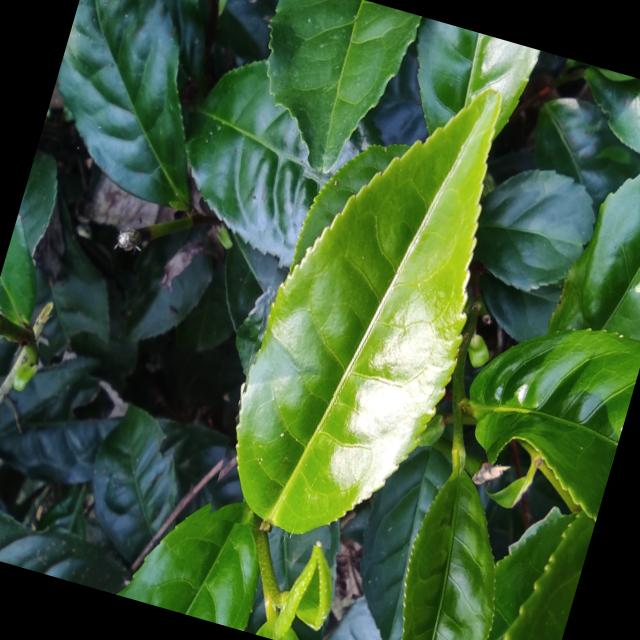Category B(2-4 days): (204, 41, 532, 568)
